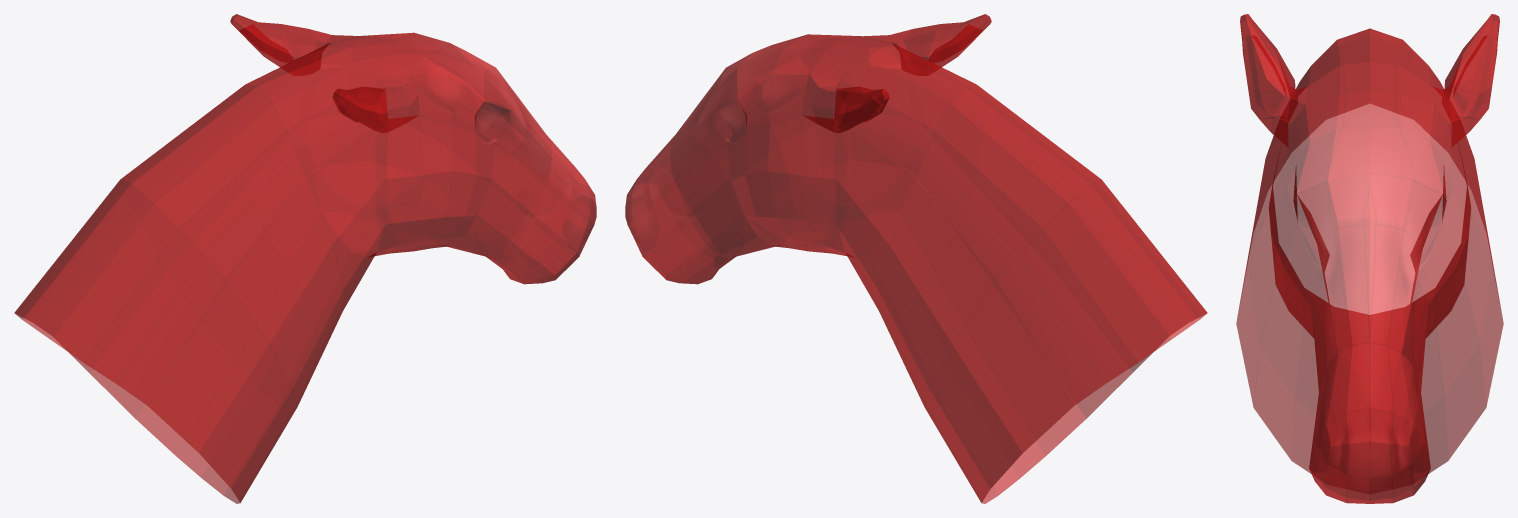
The model's file is Template_Horse_transparency.fbx.
The picture shows the model from 3 angles, left to right: view 1: azimuth 30°, elevation 25°; view 2: azimuth 150°, elevation 25°; view 3: azimuth 270°, elevation 25°; orthographic projection. The views are drawn at different scales.
Visible parts, largest first — view 1: polySurface_horse; view 2: polySurface_horse; view 3: polySurface_horse.
Boxes of the visible parts, x1,y1,x2,y2 form: polySurface_horse: (14,14,596,503); polySurface_horse: (625,14,1207,503); polySurface_horse: (1236,14,1503,503).
Bounding box in the file's own units: 10.88 × 7.86 × 3.68.
1 material, 1 textured.
